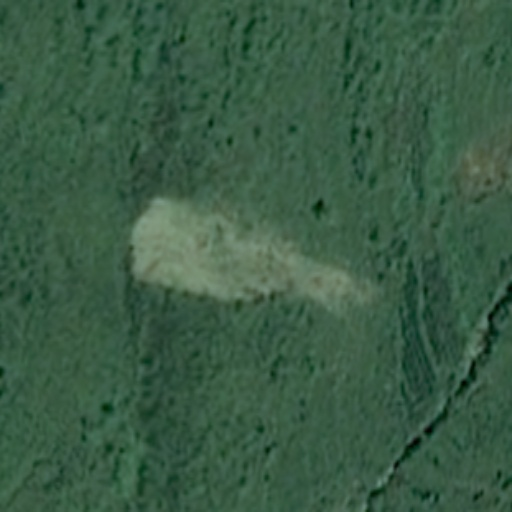landslide: (132, 196, 362, 305)
